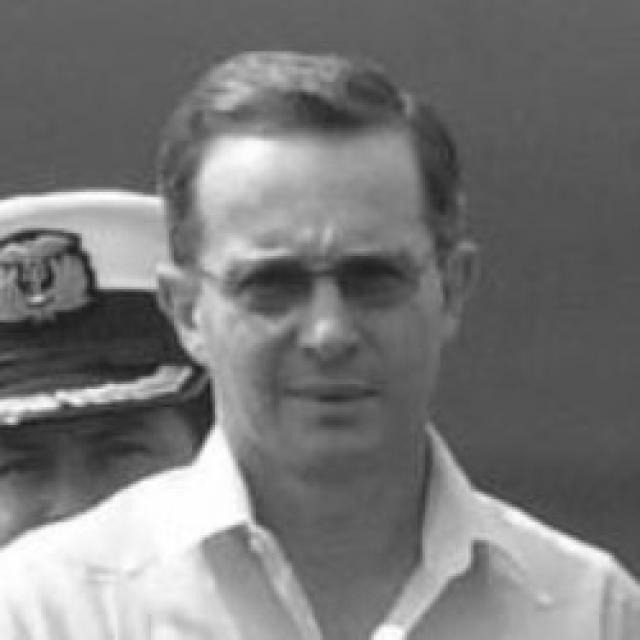real: (172, 108, 466, 458), (228, 228, 408, 322)
